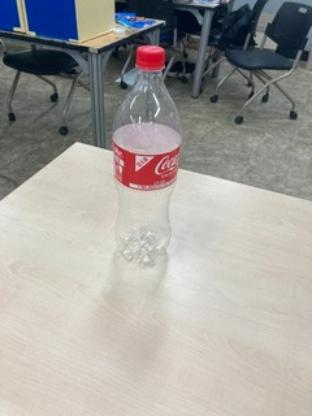Plastic Bottle: (111, 44, 181, 272)
